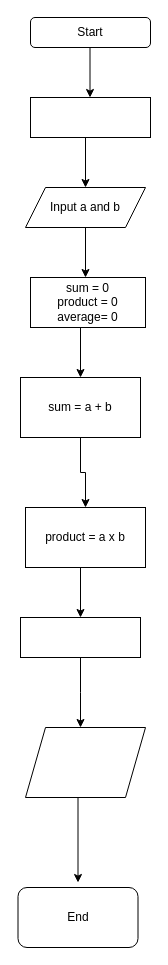
This 168x965 diagram has some shape labels left out. The centre of each missing label's shape, as x and y in pixels:
average = a + b / 2: (x=80, y=637)
Print "Enter 2 numbers": (x=90, y=117)
Print sum Print product Print average: (x=85, y=762)
